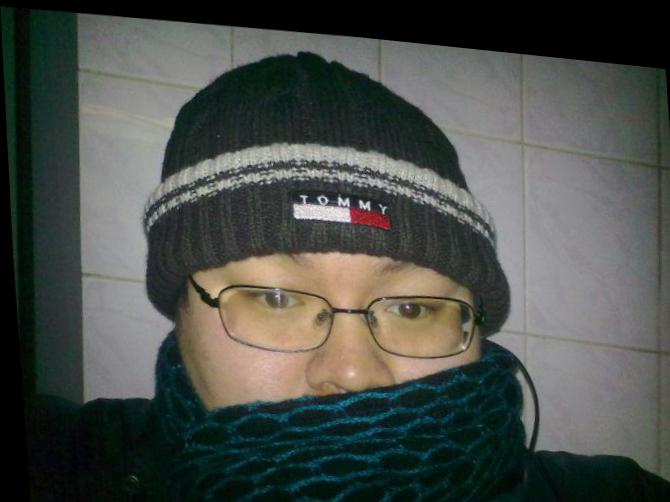WRONG: (191, 229, 472, 502)
